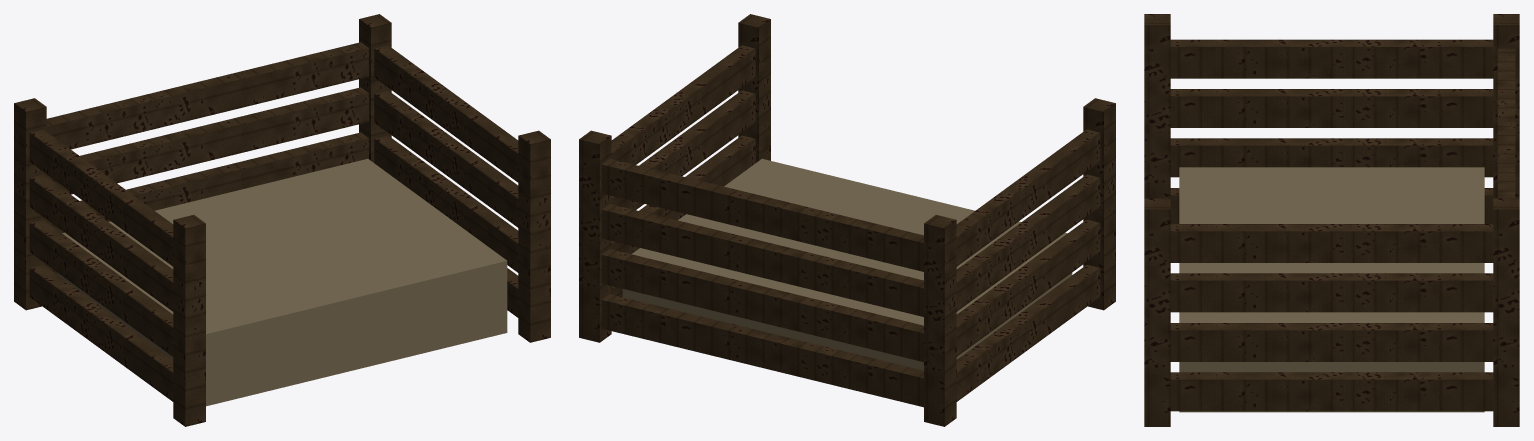
File: RURAL_composteira.gltf
3 renders of one model, left to right at view 1: azimuth 30°, elevation 25°; view 2: azimuth 150°, elevation 25°; view 3: azimuth 270°, elevation 25°, orthographic. The views are drawn at different scales.
Parts seen in each view (by area): view 1: composteira_COMPOSTO, composteira_LADO, composteira_FUNDO, composteira_MOURAO; view 2: composteira_FUNDO, composteira_LADO, composteira_MOURAO, composteira_COMPOSTO; view 3: composteira_LADO, composteira_COMPOSTO, composteira_MOURAO, composteira_FUNDO.
Part boxes in pixels (<box>): composteira_COMPOSTO: <box>57,158,507,406</box>; composteira_LADO: <box>29,45,518,401</box>; composteira_FUNDO: <box>46,42,368,274</box>; composteira_MOURAO: <box>14,14,550,426</box>; composteira_FUNDO: <box>601,159,923,407</box>; composteira_LADO: <box>611,45,1100,401</box>; composteira_MOURAO: <box>579,14,1115,426</box>; composteira_COMPOSTO: <box>622,158,1072,370</box>; composteira_LADO: <box>1170,39,1493,411</box>; composteira_COMPOSTO: <box>1179,167,1484,412</box>; composteira_MOURAO: <box>1144,14,1519,426</box>; composteira_FUNDO: <box>1497,48,1515,198</box>.
Size of the model in its own units: 2.12 by 1.1 by 1.72.
2 materials, 1 textured.
